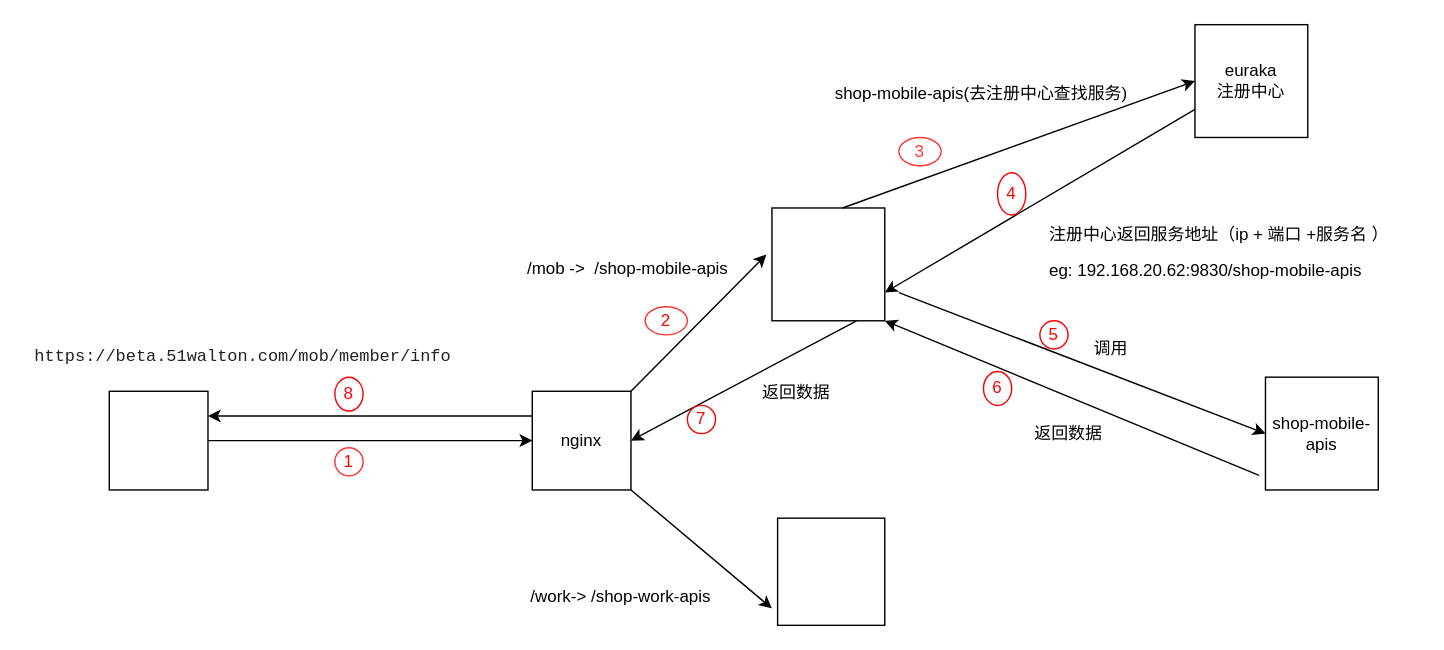
This 1444x650 diagram has some shape labels left out. The centre of each missing label's shape, as x and y in pixels:
h5: pixel 158 440
前台网关: pixel 828 264
后台网关: pixel 830 571
